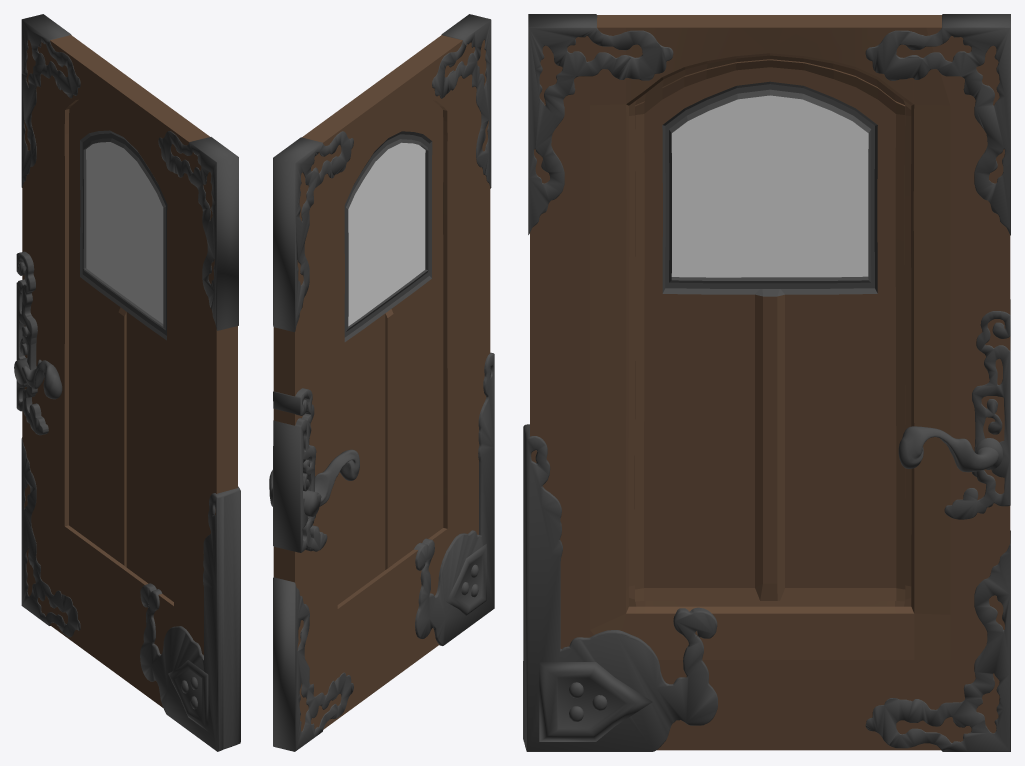
Rendered from dooronly.fbx.
The picture shows the model from 3 angles, left to right: view 1: azimuth 30°, elevation 25°; view 2: azimuth 150°, elevation 25°; view 3: azimuth 270°, elevation 25°; orthographic projection. The views are drawn at different scales.
Visible parts, largest first — view 1: DoorWindow.002; view 2: DoorWindow.002; view 3: DoorWindow.002.
Boxes of the visible parts, bbox=[...] form: DoorWindow.002: bbox=[14, 14, 240, 751]; DoorWindow.002: bbox=[269, 14, 494, 751]; DoorWindow.002: bbox=[523, 14, 1010, 751].
Bounding box in the file's own units: 36.96 × 294 × 179.
